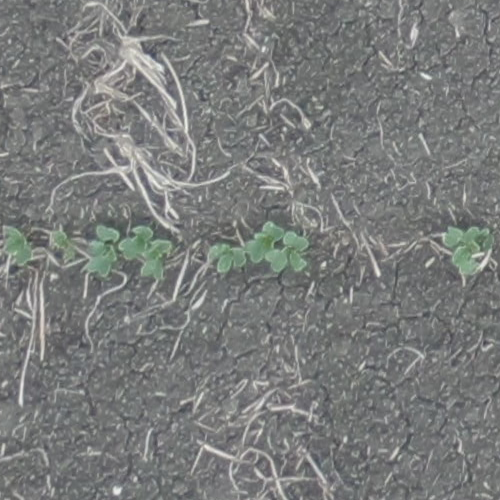clumped: (247, 220, 313, 276)
isolated: (119, 226, 173, 279), (443, 224, 492, 273), (85, 223, 119, 278), (0, 226, 35, 270), (207, 237, 244, 273), (48, 228, 79, 264)
